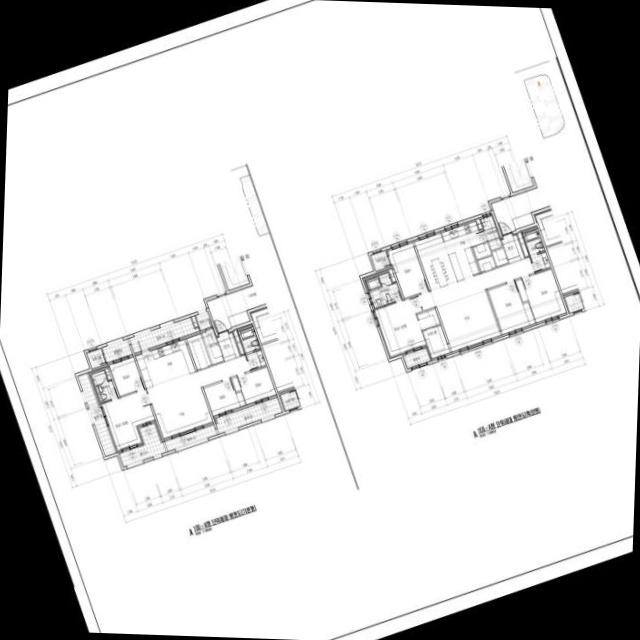background: (0, 0, 640, 640)
space_balconi: (78, 372, 116, 456), (129, 317, 199, 352), (216, 397, 282, 433), (119, 423, 166, 466), (165, 424, 217, 451), (480, 213, 502, 250), (102, 339, 132, 362), (403, 348, 430, 368), (196, 311, 212, 330)
space_bedroom: (375, 291, 440, 358), (100, 389, 155, 452), (516, 269, 567, 324), (488, 281, 536, 336), (386, 240, 428, 297), (231, 366, 277, 405), (203, 379, 246, 417), (109, 355, 144, 395)
space_dressroom: (422, 325, 450, 360)
space_elevator_hall: (491, 185, 550, 234), (207, 283, 265, 332)
space_front: (492, 232, 524, 266), (216, 330, 240, 361)
space_kitchen: (149, 337, 195, 383), (441, 219, 487, 254)
space_living_room: (413, 231, 534, 353), (135, 350, 250, 440)
space_other: (186, 332, 211, 369), (201, 328, 223, 364), (473, 243, 491, 259), (477, 255, 495, 271), (233, 329, 244, 354), (517, 231, 528, 256), (388, 267, 395, 281), (191, 316, 198, 326), (476, 218, 482, 229), (105, 368, 111, 379)
space_outdoor_room: (279, 390, 300, 411), (86, 348, 106, 368), (371, 250, 390, 271)
space_toilet: (365, 272, 401, 307), (238, 326, 266, 369), (523, 228, 550, 271), (91, 370, 117, 402)
